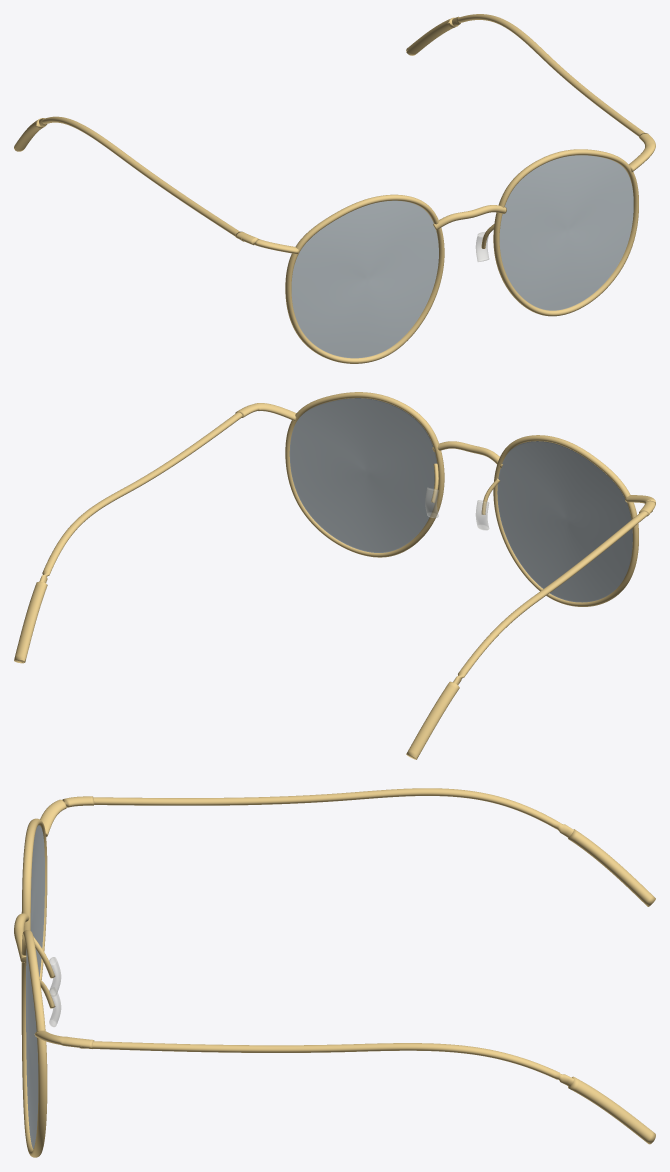
Rendered from prod-1.glb.
The picture shows the model from 3 angles, top to bottom: view 1: azimuth 30°, elevation 25°; view 2: azimuth 150°, elevation 25°; view 3: azimuth 270°, elevation 25°; orthographic projection. The views are drawn at different scales.
Parts seen in each view (by area): view 1: Optical lens -1, Optical lens 1, Frame rim -1, Frame rim 1, Thin temple -1, Thin temple 1, Temple tip 1, Bridge, Hinge -1; view 2: Optical lens 1, Optical lens -1, Frame rim 1, Frame rim -1, Thin temple 1, Thin temple -1, Temple tip -1, Temple tip 1, Bridge; view 3: Thin temple -1, Thin temple 1, Frame rim 1, Optical lens 1, Optical lens -1, Frame rim -1, Temple tip 1, Temple tip -1, Hinge -1, Hinge 1.
Part boxes in pixels (<box>): Optical lens -1: <box>291,200,438,358</box>; Optical lens 1: <box>499,155,633,310</box>; Frame rim -1: <box>285,194,444,363</box>; Frame rim 1: <box>493,149,638,316</box>; Thin temple -1: <box>39,116,243,241</box>; Thin temple 1: <box>452,14,644,136</box>; Temple tip 1: <box>406,17,458,55</box>; Bridge: <box>433,205,506,230</box>; Hinge -1: <box>235,231,298,253</box>; Optical lens 1: <box>289,398,437,552</box>; Optical lens -1: <box>497,441,632,602</box>; Frame rim 1: <box>285,392,444,557</box>; Frame rim -1: <box>493,435,638,606</box>; Thin temple 1: <box>17,412,242,662</box>; Thin temple -1: <box>410,510,652,758</box>; Temple tip -1: <box>406,681,459,759</box>; Temple tip 1: <box>14,581,47,663</box>; Bridge: <box>432,441,502,468</box>; Thin temple -1: <box>93,788,573,837</box>; Thin temple 1: <box>79,1041,573,1086</box>; Frame rim 1: <box>21,930,47,1157</box>; Optical lens 1: <box>26,949,38,1148</box>; Optical lens -1: <box>30,825,44,976</box>; Frame rim -1: <box>21,818,47,979</box>; Temple tip 1: <box>568,1076,655,1144</box>; Temple tip -1: <box>568,829,655,906</box>; Hinge -1: <box>40,796,94,836</box>; Hinge 1: <box>34,1030,94,1048</box>.
Bounding box in the file's own units: 0.1365 × 0.0494 × 0.1425.
